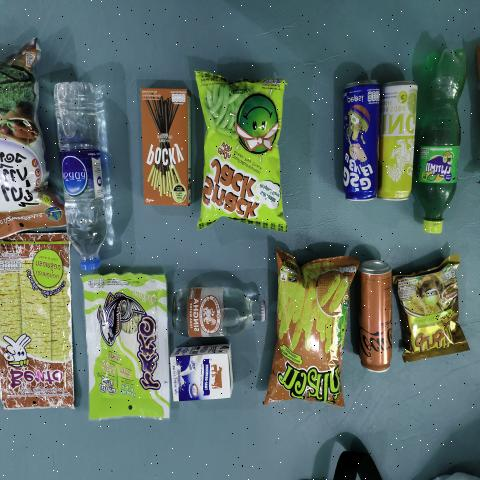bento_red: (5, 237, 68, 408)
coke_red: (360, 267, 390, 372)
crystal: (53, 81, 117, 269)
fanta_green: (423, 40, 468, 236)
mama: (404, 268, 462, 360)
pepsi_blue: (340, 86, 384, 204)
pokki: (144, 94, 190, 206)
singha_soda: (175, 286, 268, 347)
singha_yellow: (378, 84, 420, 200)
snack_jack: (203, 86, 278, 220)
taro_yellow: (85, 281, 165, 417)
thai_denmark: (174, 349, 232, 404)
twisco: (278, 265, 345, 400)
